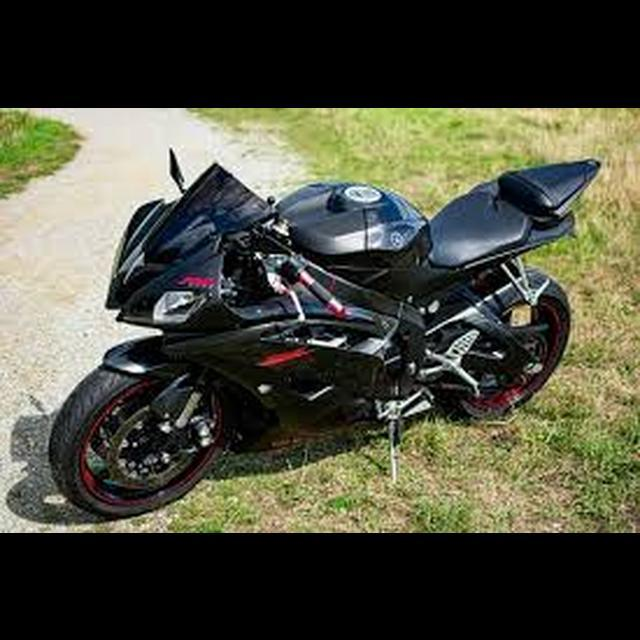motorcycle: (47, 139, 602, 520)
